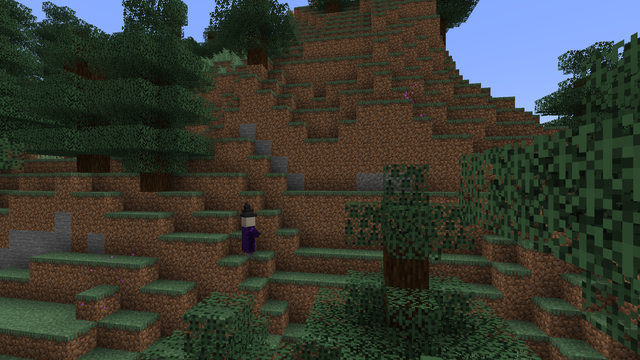sorcieres: (239, 213, 256, 256)
